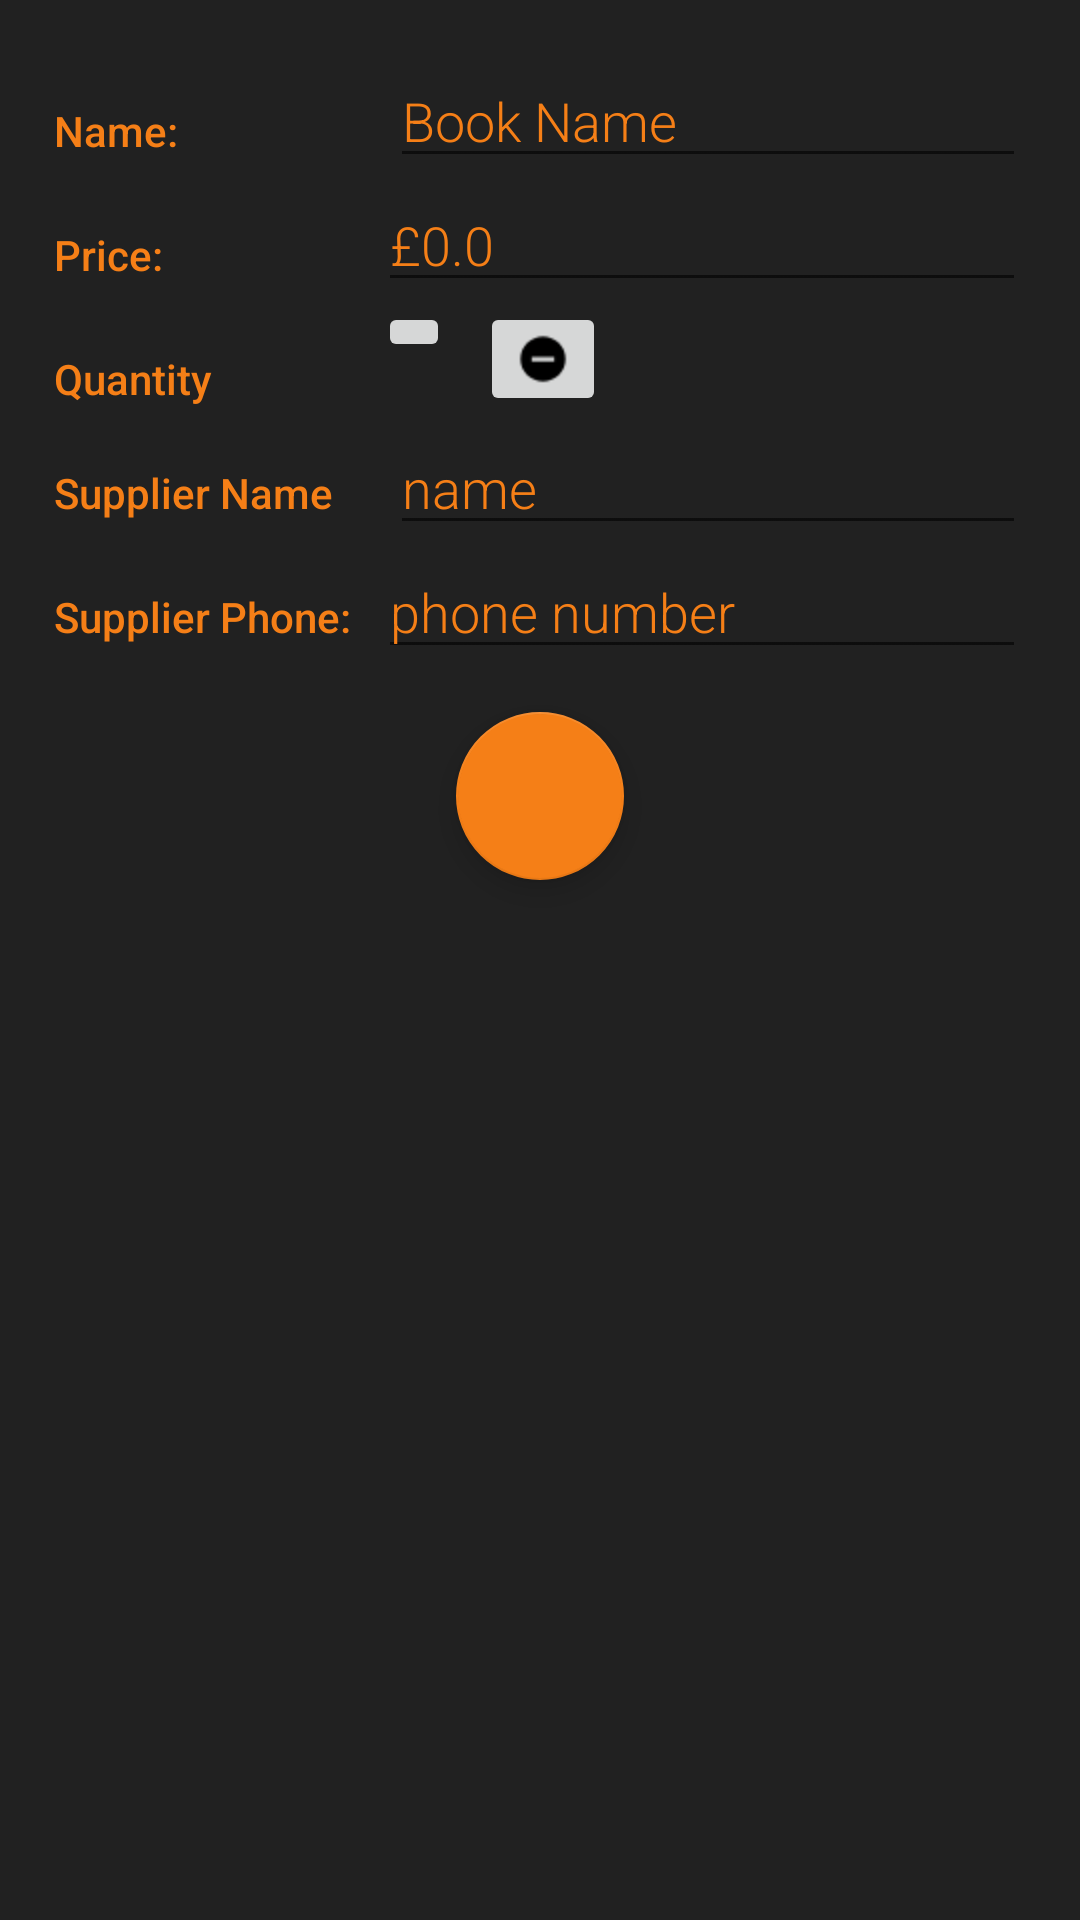

Screen size 1080x1920. Icon name, then its center in pixels as [x,y]:
remove circle: [543,359]
